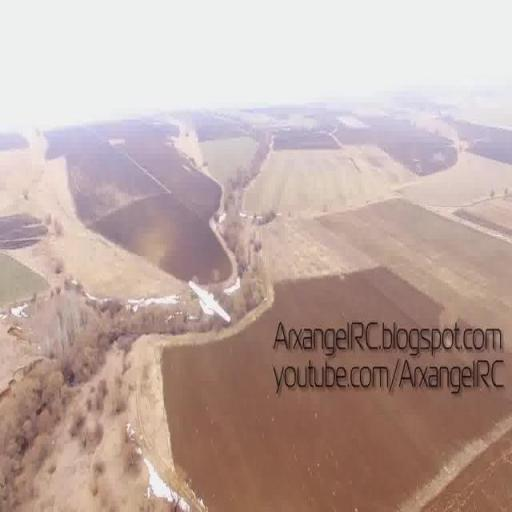uav: (182, 248, 241, 342)
